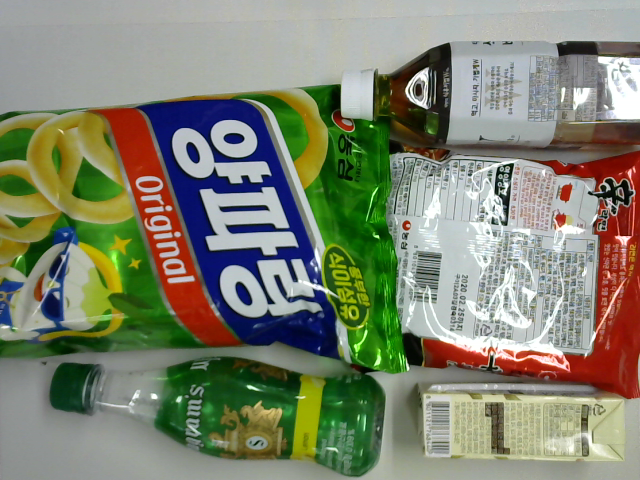99.89_Soymilk: (413, 378, 630, 463)
Oninon_Ring: (1, 81, 412, 376)
Post-meal_recipe_W_tea_500ml: (336, 35, 640, 155)
Seagram_Lemon_Carbonated_Water: (49, 355, 387, 478)
Sinramen: (380, 135, 640, 401)
